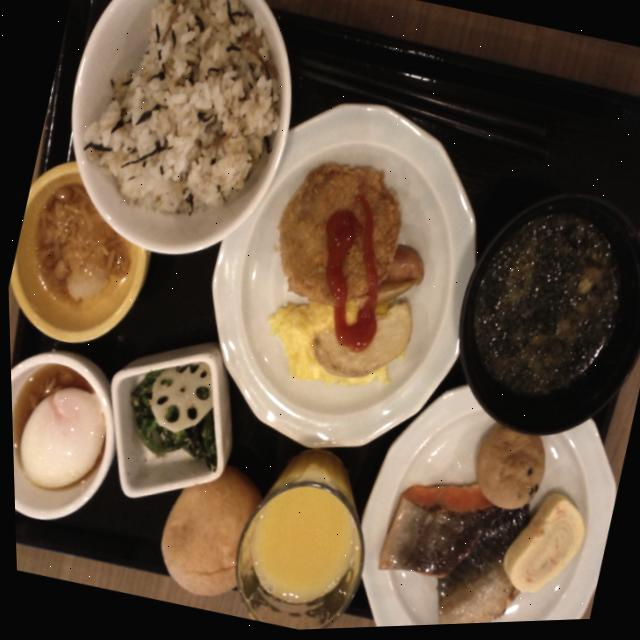熟制海鲜: (455, 416, 555, 530)
米饭主食: (33, 0, 324, 276)
鸡蛋料理: (499, 490, 590, 604)
